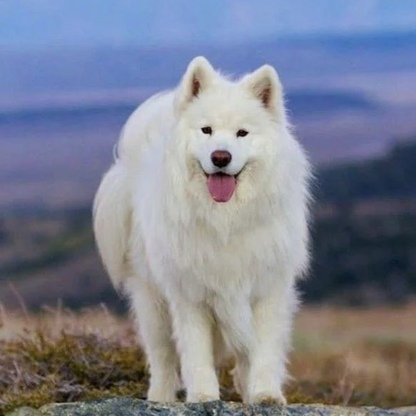samoyed: (76, 47, 334, 416)
